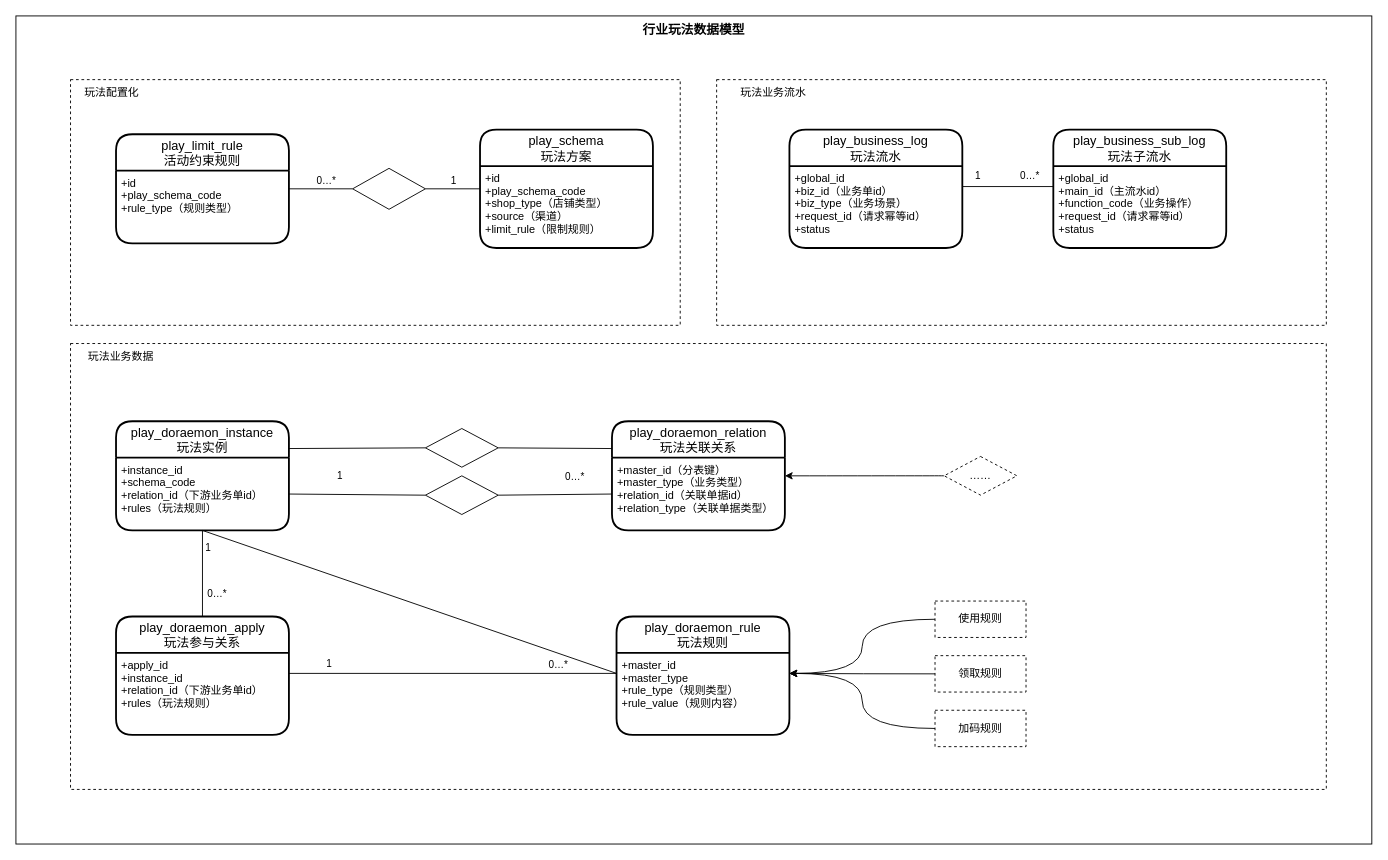
The diagram is 1388 pixels wide and 860 high, and some of its shapes have lost their labels. The centre of each missing label's shape, as x and y in pixels:
"报名关系" belongs at pixel 461 495.
"配置" belongs at pixel 388 188.
"预算关系" belongs at pixel 461 447.
